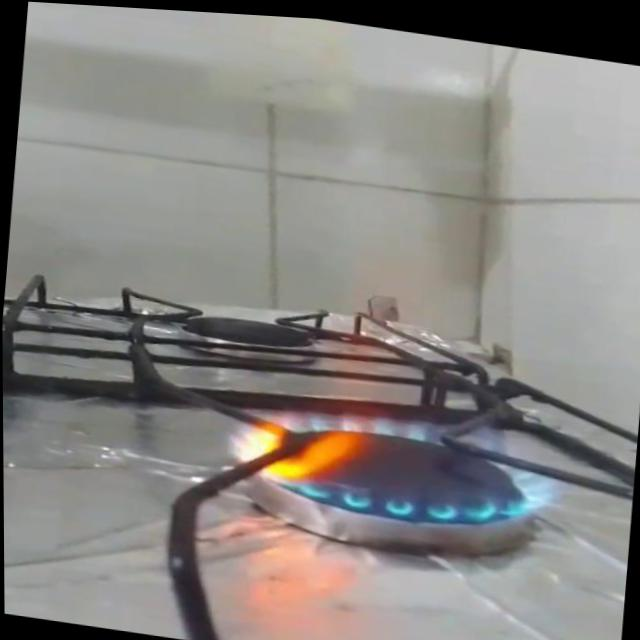Fire: (212, 279, 581, 541)
